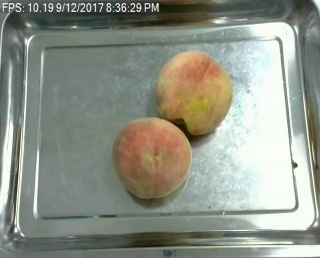Peach: (111, 116, 192, 198), (156, 51, 234, 134)
